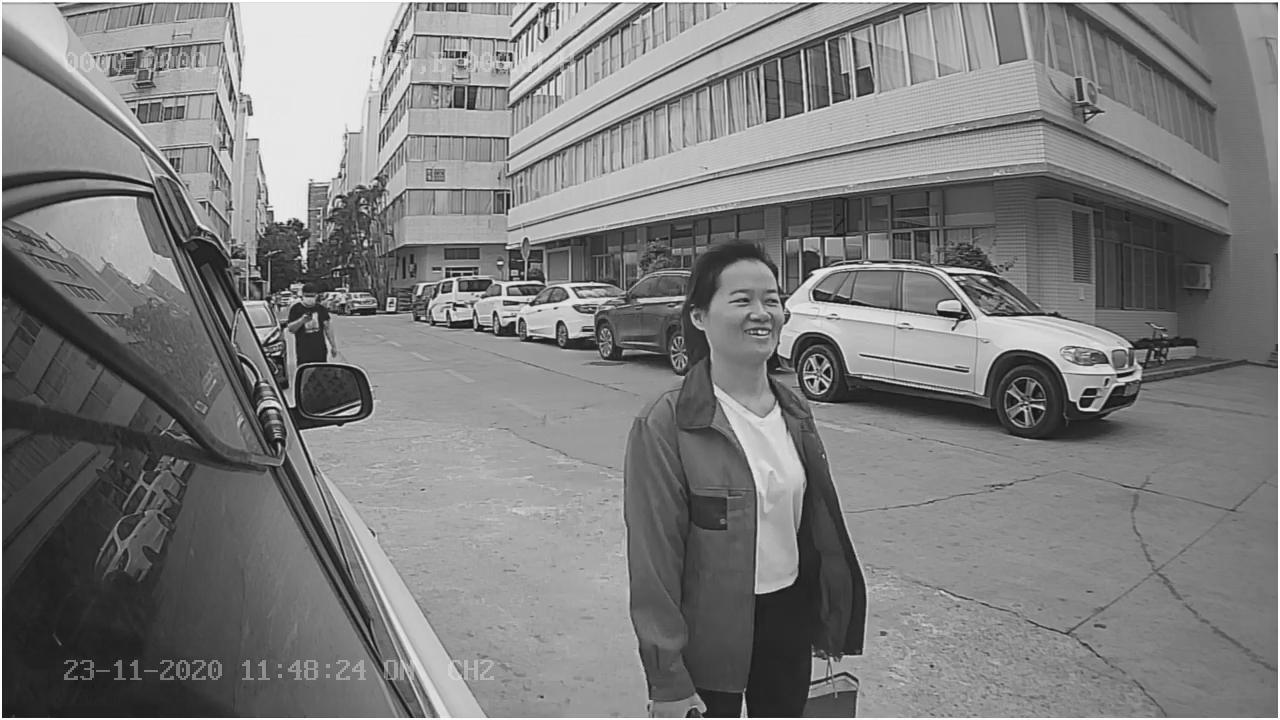person: (617, 245, 854, 571)
